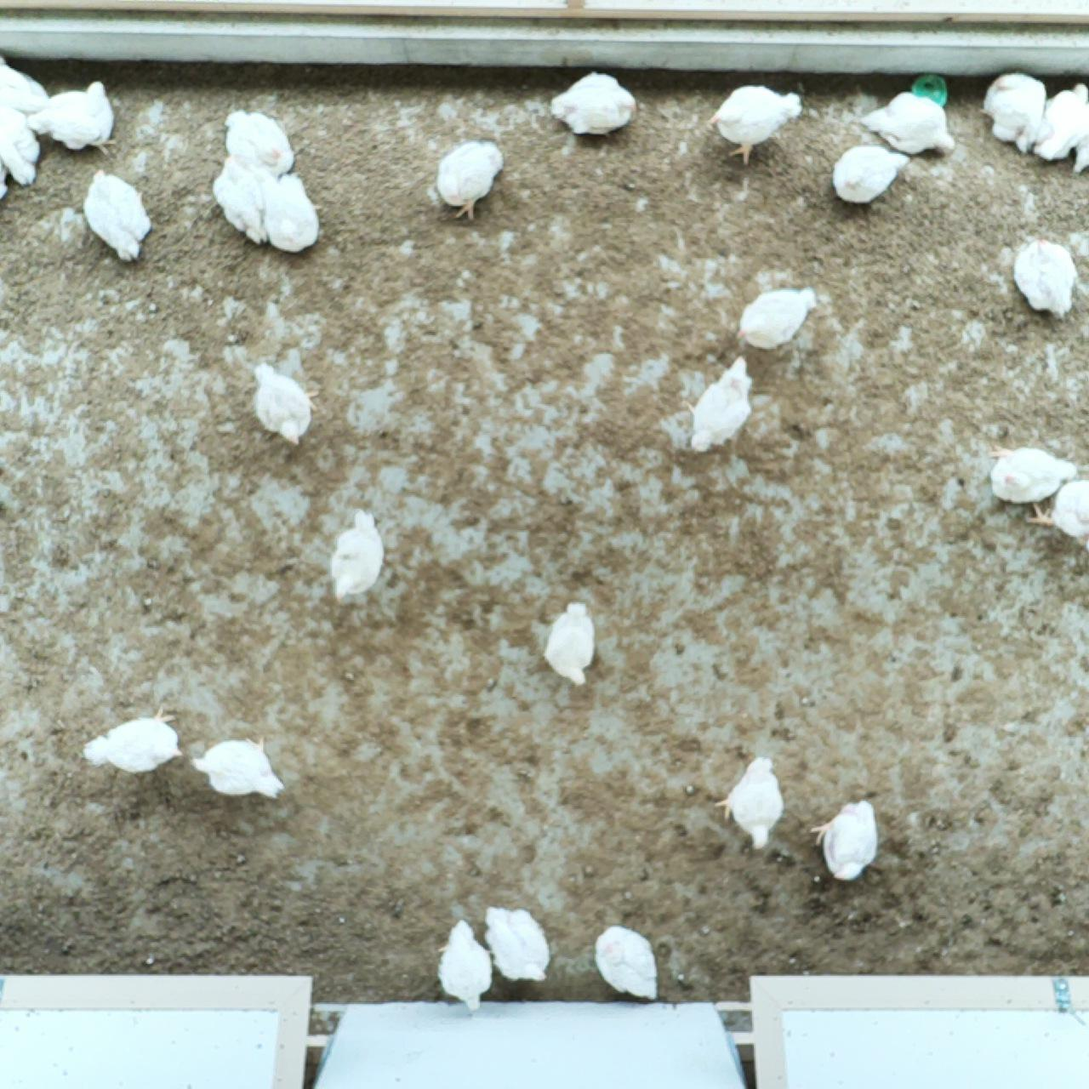chicken: (705, 80, 807, 167), (71, 701, 185, 776), (81, 164, 160, 271), (23, 77, 123, 159), (682, 353, 759, 459), (187, 728, 289, 807), (853, 87, 960, 161), (711, 753, 786, 853), (547, 66, 644, 141), (248, 357, 324, 450), (982, 440, 1081, 511), (973, 68, 1050, 158), (431, 138, 507, 227), (810, 795, 883, 887), (327, 504, 391, 607), (1011, 232, 1084, 321), (731, 284, 822, 354), (482, 902, 556, 988), (251, 169, 324, 256), (432, 917, 499, 1011), (589, 921, 662, 1003), (209, 152, 270, 250), (223, 105, 298, 179), (830, 141, 911, 208), (541, 596, 597, 689), (1030, 77, 1089, 164), (1023, 473, 1089, 548), (0, 103, 45, 191), (0, 57, 53, 117)
